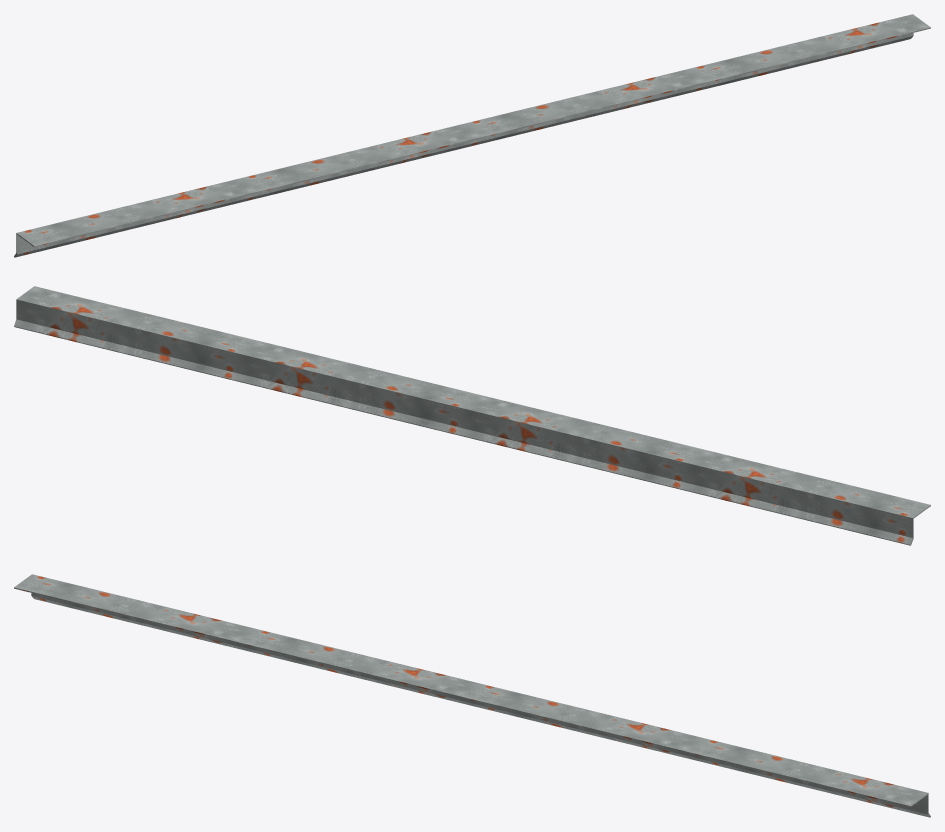
File: ROOF_EAVE_DRIP_EDGE_4000.glb
The picture shows the model from 3 angles, top to bottom: view 1: azimuth 30°, elevation 25°; view 2: azimuth 150°, elevation 25°; view 3: azimuth 330°, elevation 25°; orthographic projection.
Parts seen in each view (by area): view 1: ROOF_EAVE_DRIP_EDGE_4000__EaveDrip_FoldedMetal; view 2: ROOF_EAVE_DRIP_EDGE_4000__EaveDrip_FoldedMetal; view 3: ROOF_EAVE_DRIP_EDGE_4000__EaveDrip_FoldedMetal.
Part boxes in pixels (x1=…): ROOF_EAVE_DRIP_EDGE_4000__EaveDrip_FoldedMetal: x1=14, y1=14, x2=930, y2=257; ROOF_EAVE_DRIP_EDGE_4000__EaveDrip_FoldedMetal: x1=14, y1=286, x2=930, y2=545; ROOF_EAVE_DRIP_EDGE_4000__EaveDrip_FoldedMetal: x1=14, y1=574, x2=930, y2=817.
Size of the model in its own units: 4 by 0.112 by 0.158.
Materials: 1 (1 with a texture image).
